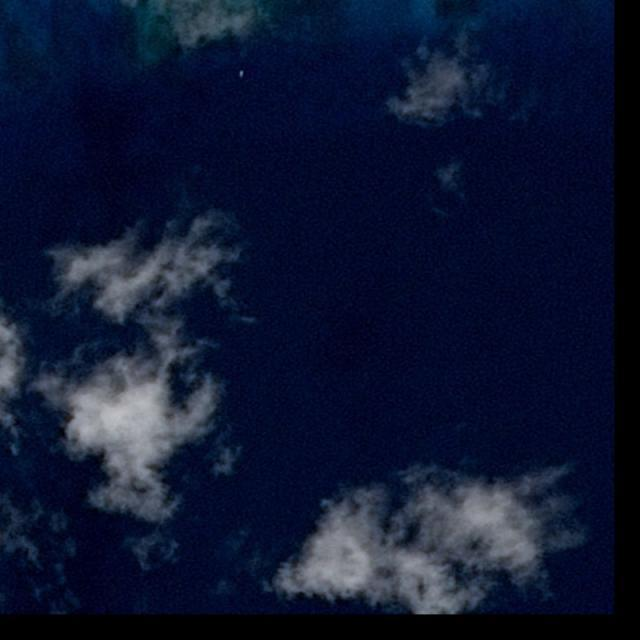ship: (238, 70, 246, 81)
